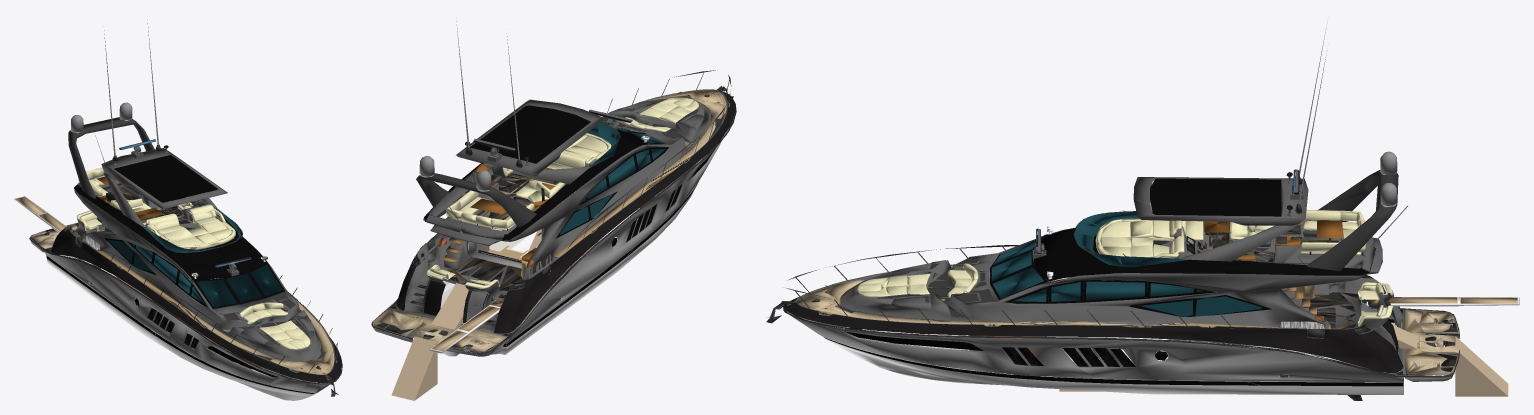
The model's file is lux-yacht.zfix-v14.lod1.glb.
The picture shows the model from 3 angles, left to right: view 1: azimuth 30°, elevation 25°; view 2: azimuth 150°, elevation 25°; view 3: azimuth 270°, elevation 25°; orthographic projection. The views are drawn at different scales.
Visible parts, largest first — view 1: Object_5, Object_6, Object_9, Object_87, Object_4, Object_10, Object_77, Object_45; view 2: Object_6, Object_5, Object_4, Object_9, Object_77, Object_10, Object_87, Object_45; view 3: Object_5, Object_6, Object_9, Object_10, Object_4, Object_87, Object_45, Object_77.
Part boxes in pixels (left/top/right/bottom): Object_5: left=30, top=118, right=342, bottom=393; Object_6: left=33, top=23, right=336, bottom=383; Object_9: left=31, top=102, right=340, bottom=393; Object_87: left=76, top=167, right=310, bottom=349; Object_4: left=14, top=117, right=342, bottom=396; Object_10: left=51, top=140, right=341, bottom=382; Object_77: left=16, top=187, right=334, bottom=375; Object_45: left=14, top=179, right=316, bottom=400; Object_6: left=373, top=21, right=729, bottom=352; Object_5: left=372, top=94, right=736, bottom=400; Object_4: left=371, top=70, right=736, bottom=353; Object_9: left=373, top=104, right=734, bottom=356; Object_77: left=373, top=90, right=727, bottom=351; Object_10: left=396, top=89, right=735, bottom=333; Object_87: left=426, top=97, right=698, bottom=288; Object_45: left=405, top=135, right=706, bottom=356; Object_5: left=783, top=169, right=1508, bottom=396; Object_6: left=786, top=26, right=1459, bottom=375; Object_9: left=786, top=151, right=1459, bottom=382; Object_10: left=784, top=170, right=1403, bottom=373; Object_4: left=766, top=170, right=1459, bottom=400; Object_87: left=857, top=210, right=1392, bottom=326; Object_45: left=825, top=226, right=1519, bottom=394; Object_77: left=796, top=232, right=1517, bottom=375.
Bounding box in the file's own units: 8.49 × 21.22 × 40.01.
9 materials, 4 textured.
